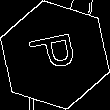P_E: (26, 32, 84, 78)
